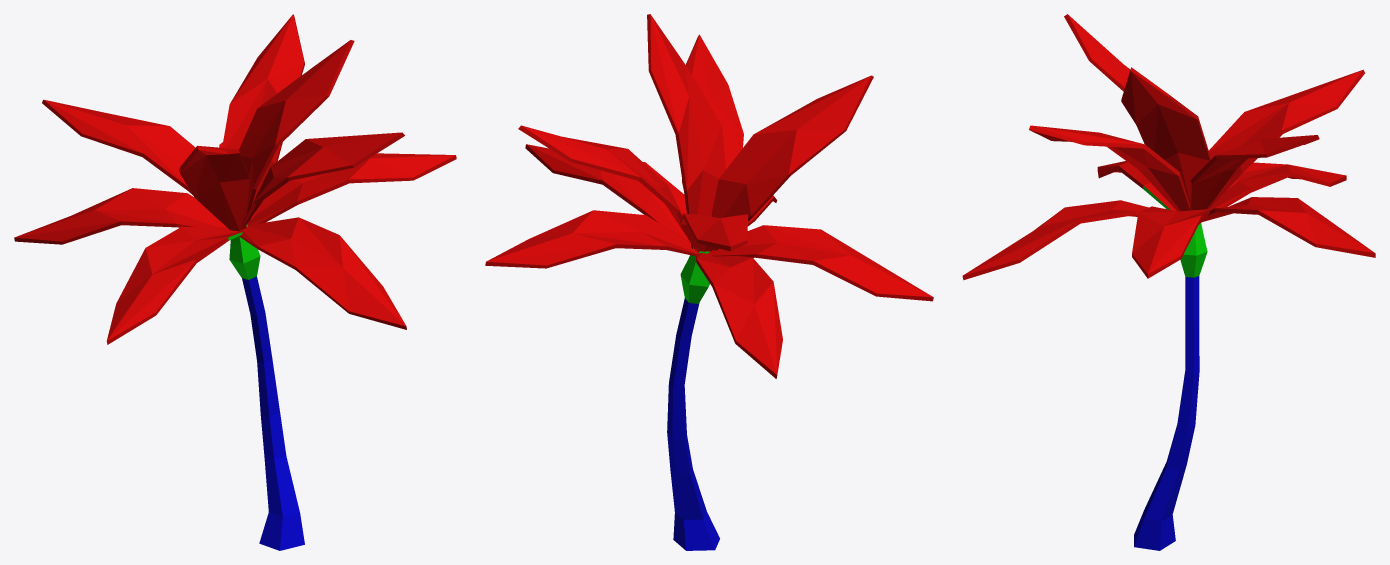
The model's file is palmtree.fbx.
3 renders of one model, left to right at view 1: azimuth 30°, elevation 25°; view 2: azimuth 150°, elevation 25°; view 3: azimuth 270°, elevation 25°, orthographic. The views are drawn at different scales.
Visible parts, largest first — view 1: Palmtree; view 2: Palmtree; view 3: Palmtree.
Part boxes in pixels (x1,y1,x2,y2): Palmtree: (14, 14, 456, 550); Palmtree: (485, 14, 933, 550); Palmtree: (962, 14, 1375, 550).
Size of the model in its own units: 385 by 486 by 362.
